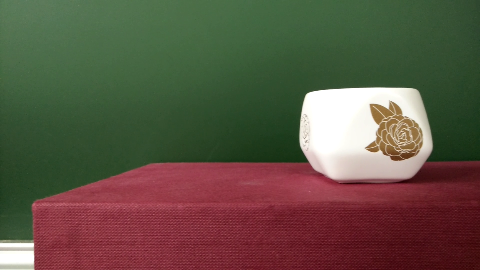flower: (358, 96, 426, 164)
